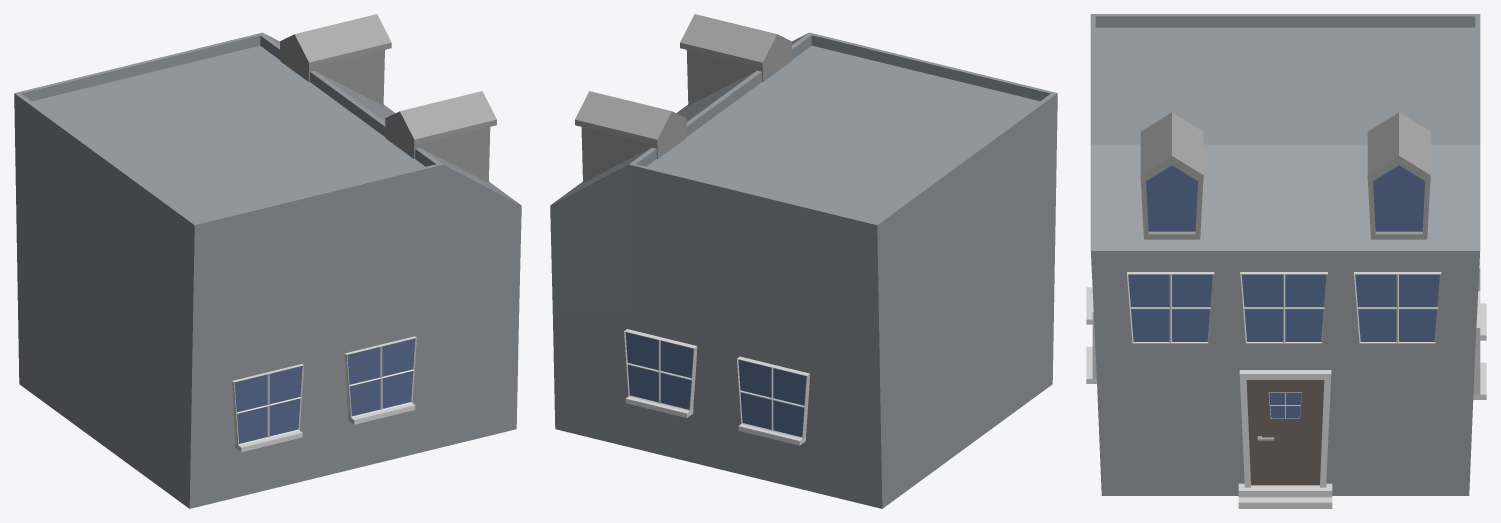
Rendered from Building 006.fbx.
3 views of the same model, side by side, from view 1: azimuth 30°, elevation 25°; view 2: azimuth 150°, elevation 25°; view 3: azimuth 270°, elevation 25° (orthographic). The views are drawn at different scales.
Visible parts, largest first — view 1: polySurface2, polySurface6, polySurface7, polySurface1, polySurface12; view 2: polySurface2, polySurface7, polySurface6, polySurface14, polySurface13; view 3: polySurface2, polySurface9, polySurface7, polySurface6, polySurface4, polySurface5, polySurface3, polySurface11, polySurface10, polySurface14, polySurface1.
Part boxes in pixels (x1,y1,x2,y2): polySurface2: (14,32,521,508); polySurface6: (385,91,496,182); polySurface7: (280,14,391,105); polySurface1: (344,336,416,424); polySurface12: (232,364,304,452); polySurface2: (550,32,1057,508); polySurface7: (575,91,686,182); polySurface6: (680,14,791,105); polySurface14: (624,329,697,417); polySurface13: (737,356,809,445); polySurface2: (1090,14,1480,495); polySurface9: (1239,370,1331,487); polySurface7: (1367,112,1430,239); polySurface6: (1140,112,1203,239); polySurface4: (1240,272,1327,343); polySurface5: (1354,272,1441,343); polySurface3: (1127,272,1214,343); polySurface11: (1238,483,1332,508); polySurface10: (1268,392,1301,418); polySurface14: (1473,291,1486,399); polySurface1: (1086,293,1096,383).
Size of the model in its own units: 5.92 by 5.06 by 5.41.
